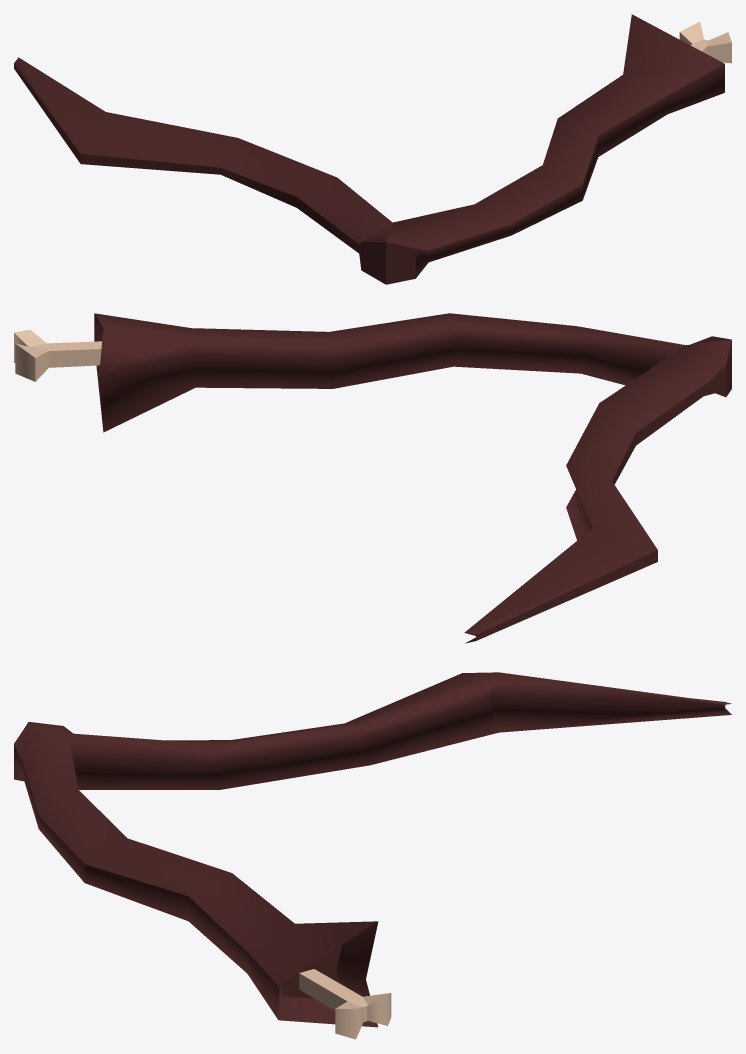
Rendered from Spider_leg.fbx.
3 renders of one model, top to bottom at view 1: azimuth 30°, elevation 25°; view 2: azimuth 150°, elevation 25°; view 3: azimuth 270°, elevation 25°, orthographic. The views are drawn at different scales.
Parts seen in each view (by area): view 1: pCube3; view 2: pCube3; view 3: pCube3.
Boxes of the visible parts, bbox=[...] form: pCube3: bbox=[14, 14, 731, 284]; pCube3: bbox=[14, 313, 731, 643]; pCube3: bbox=[14, 672, 731, 1039].
Bounding box in the file's own units: 0.7946 × 0.1139 × 0.6987.
